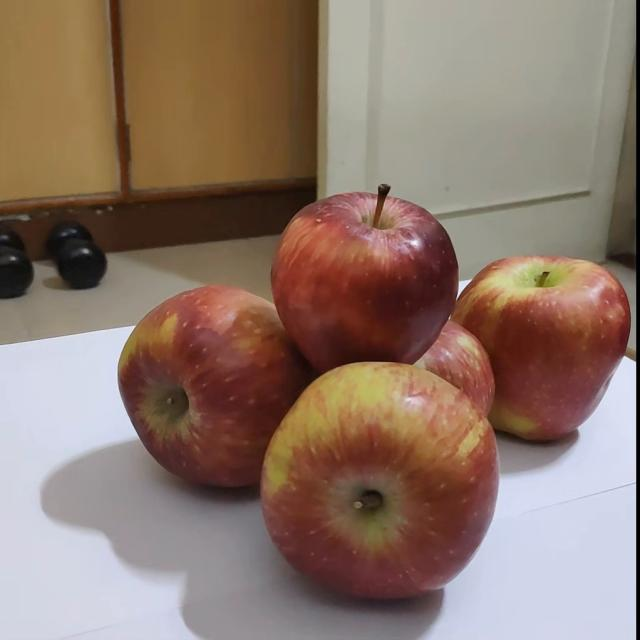apple: (261, 350, 519, 612), (272, 175, 470, 388), (115, 283, 312, 497), (448, 239, 638, 442)
